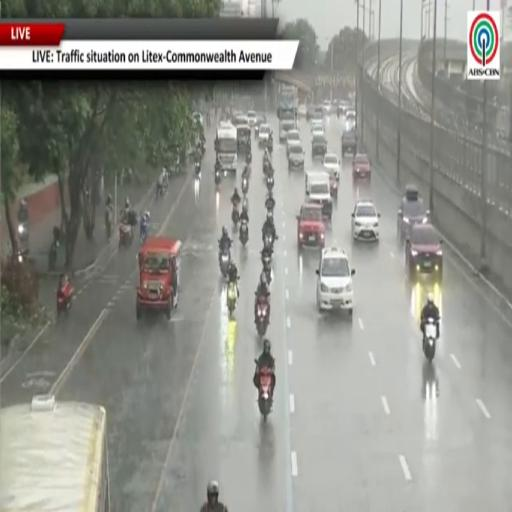bus: (0, 395, 110, 511), (215, 122, 237, 171)
car: (316, 248, 354, 316), (406, 223, 442, 279), (397, 185, 429, 238), (305, 171, 332, 220), (297, 203, 324, 248), (352, 200, 380, 241), (352, 154, 371, 181), (288, 141, 305, 170), (322, 153, 340, 180), (325, 169, 338, 198), (279, 120, 296, 142), (342, 131, 356, 157), (312, 134, 327, 158), (286, 130, 300, 155), (258, 123, 270, 146), (255, 116, 266, 138), (311, 106, 324, 124), (247, 111, 257, 129), (311, 119, 324, 132), (312, 124, 325, 136), (192, 111, 203, 125), (233, 114, 247, 125), (306, 105, 315, 120), (323, 100, 332, 115), (298, 104, 306, 118)
motorcycle: (255, 360, 273, 421), (57, 280, 74, 316), (424, 317, 437, 362), (255, 297, 268, 337), (119, 223, 133, 248), (48, 240, 59, 271), (227, 282, 237, 315), (262, 251, 271, 282), (220, 250, 230, 277), (239, 219, 248, 246), (105, 207, 112, 239), (18, 221, 28, 243), (141, 220, 149, 244), (265, 198, 275, 215), (264, 231, 274, 248), (17, 249, 28, 263), (156, 184, 166, 199), (232, 205, 239, 226), (194, 161, 201, 180), (263, 157, 270, 175), (266, 176, 274, 191), (215, 168, 221, 185), (242, 178, 248, 195), (246, 152, 251, 165), (268, 140, 272, 154)
truck: (278, 85, 298, 120)
